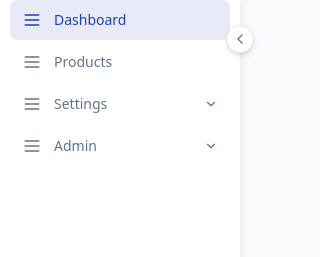
Sidebar › accordion: closes other dropdown when opening a new one
Click the button "Settings". click: {"x": 120, "y": 104}
box: [10, 84, 230, 124]
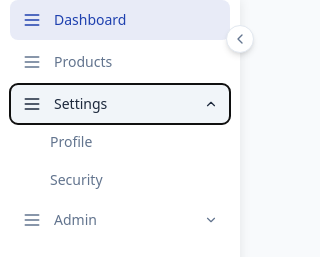
expect the link "Profile" is shown: met, box [50, 132, 92, 151]
Click the button "Admin". click: {"x": 120, "y": 220}
box: [10, 200, 230, 240]
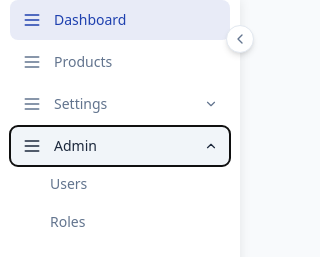
expect the link "Users" is shown: met, box [50, 174, 87, 193]
expect the link "Profile" is gone: met
